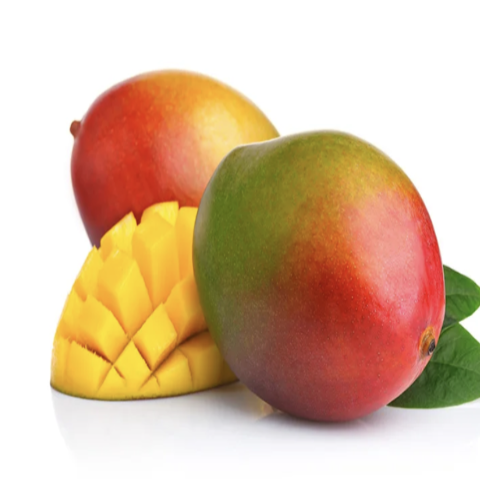mango: (181, 123, 465, 429), (47, 58, 312, 301)
